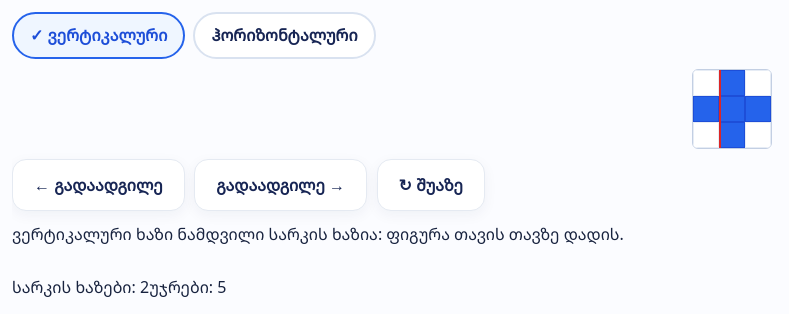
Scenario: tools: the mirror lab › sliding the line off the picture stops it being a mirror line
The width and height of the screenshot is (789, 314).
What coordinates should you click on to do the following:
click the button with aria-label "სარკის ხაზი მარცხნივ"
I would click on:
 (98, 185)
Its box is [12,159,185,211].
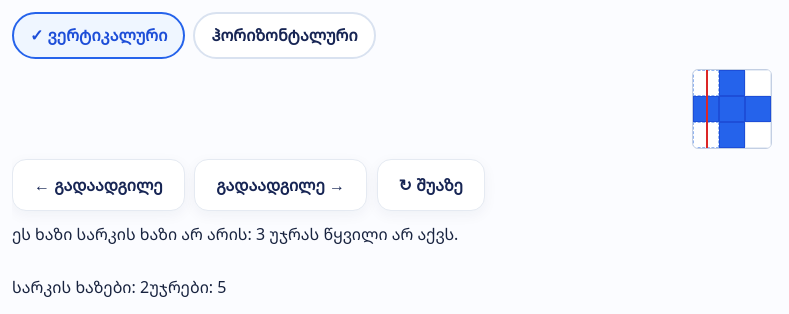
What coordinates should you click on to do the following:
click the button with aria-label "სარკის ხაზი მარცხნივ"
I would click on:
 (98, 185)
Its box is [12,159,185,211].
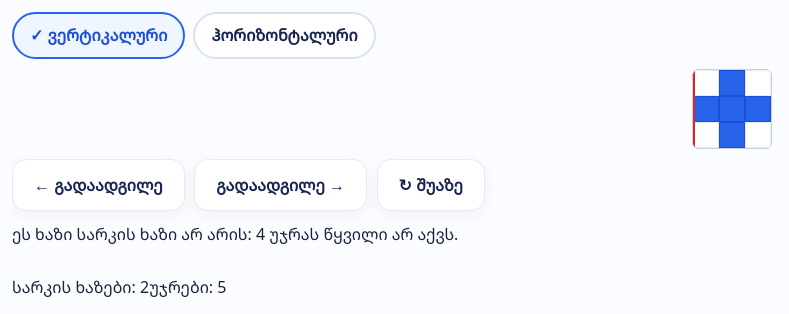
Expected: the message with class "lab-status" shows "არ არის", [12,223,458,245]
What coordinates should you click on to do the following:
click the button "↻ შუაზე"
I would click on:
 (431, 185)
Its box is [377,159,485,211].
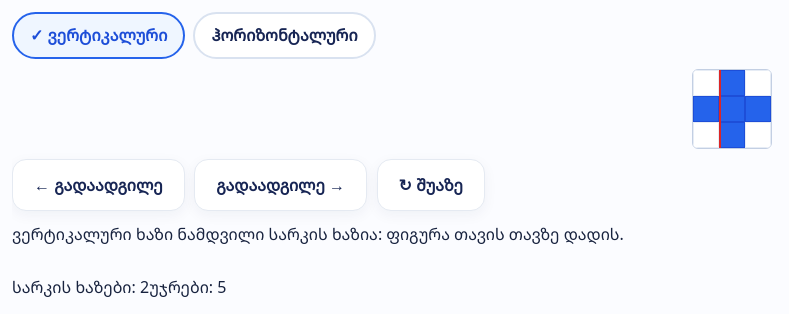
Expected: the message with class "lab-status" shows "ნამდვილი", [12,223,624,245]
